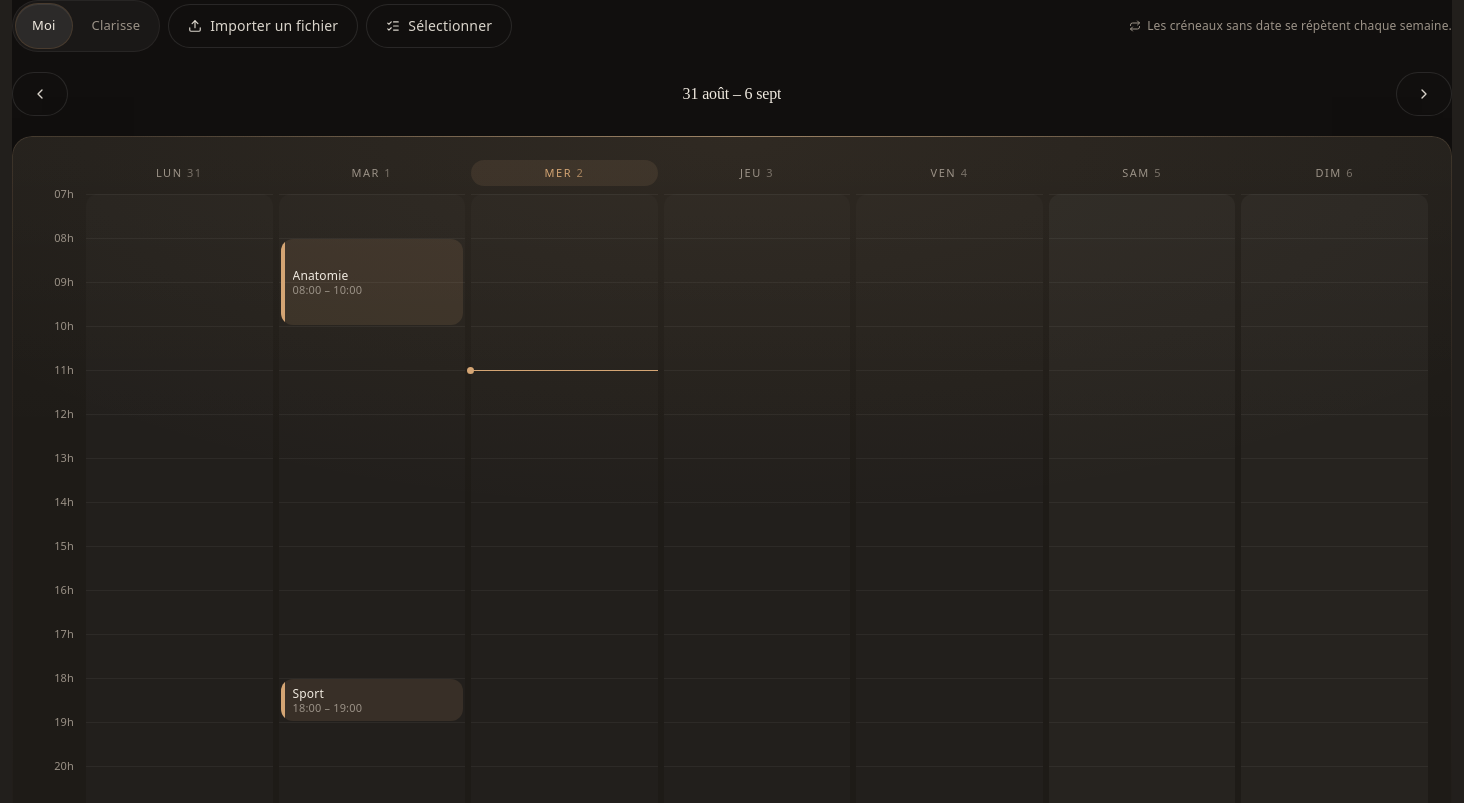
Test: Emploi du temps — semaines et dates › dit la semaine qu’on regarde
expect the text "31 août – 6 sept" is shown: met, box x1=683 y1=81 x2=781 y2=107
What coordinates should you click on to do the following:
click the button named "Semaine précédente"
I would click on:
 (40, 94)
Its box is x1=12 y1=72 x2=68 y2=116.
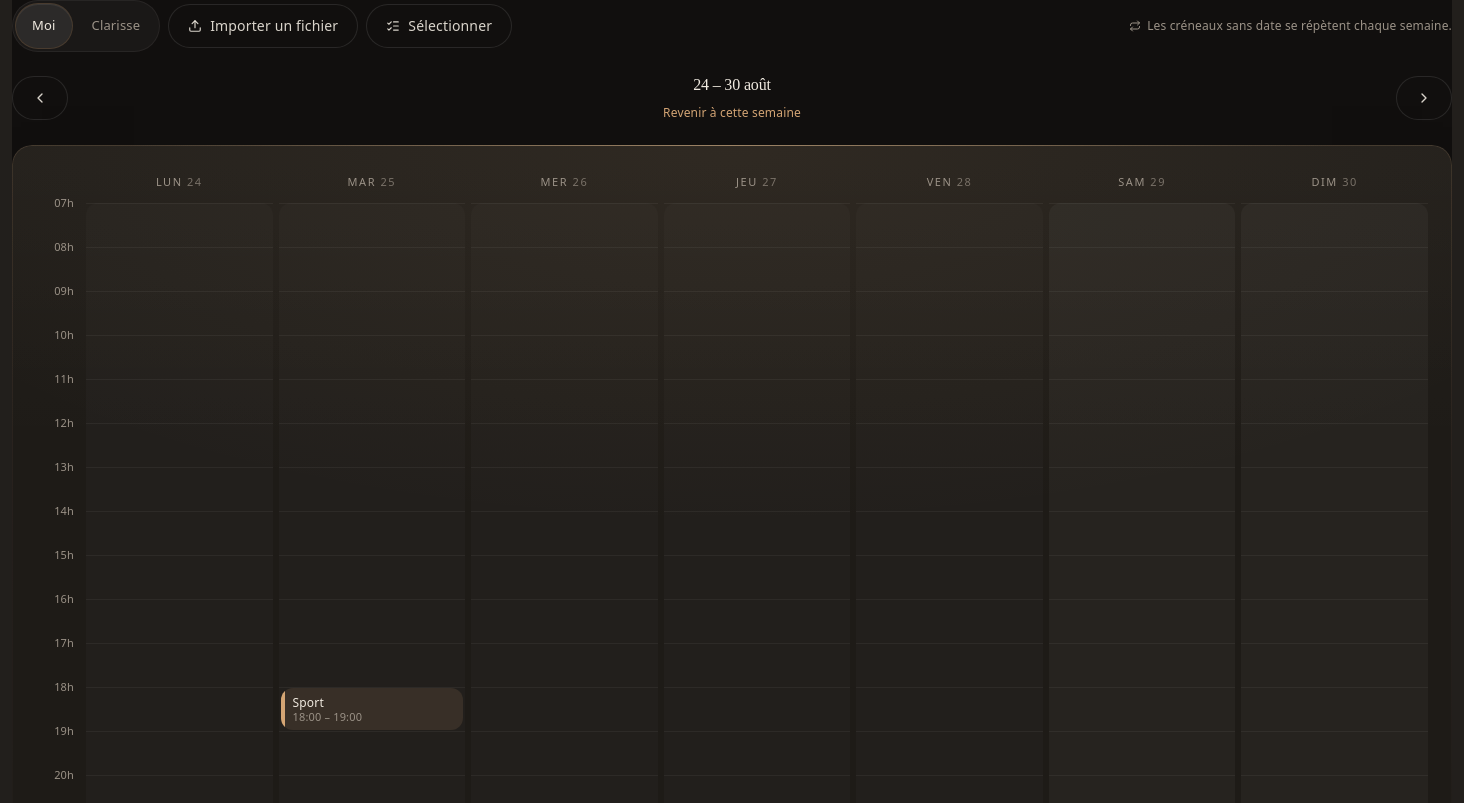
expect the text "24 – 30 août" is shown: met, box x1=693 y1=76 x2=771 y2=93
